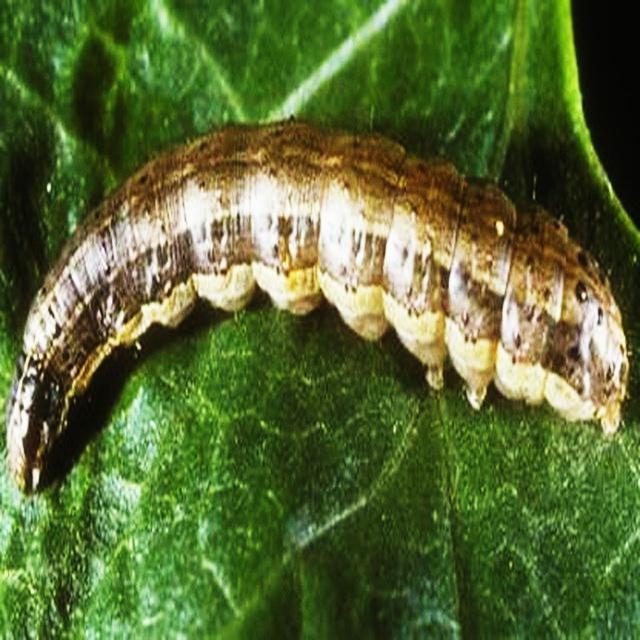gusano_cogollero: (10, 118, 627, 505)
